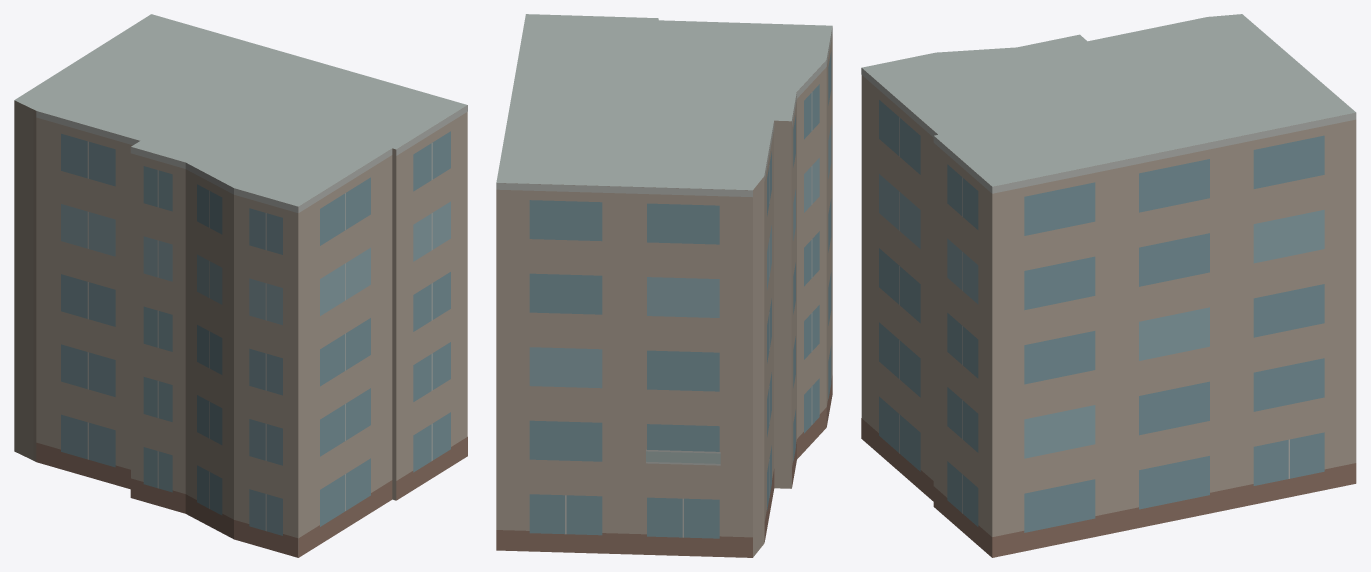
Rendered from survey-upis-32712816.glb.
3 views of the same model, side by side, from view 1: azimuth 30°, elevation 25°; view 2: azimuth 150°, elevation 25°; view 3: azimuth 270°, elevation 25° (orthographic). The views are drawn at different scales.
Visible parts, largest first — view 1: survey-upis-32712816.tmp; view 2: survey-upis-32712816.tmp; view 3: survey-upis-32712816.tmp.
Boxes of the visible parts, left/top/right/bottom form: survey-upis-32712816.tmp: left=14, top=14, right=467, bottom=557; survey-upis-32712816.tmp: left=496, top=14, right=832, bottom=557; survey-upis-32712816.tmp: left=861, top=14, right=1356, bottom=557.
Size of the model in its own units: 12.99 by 13 by 15.72.
